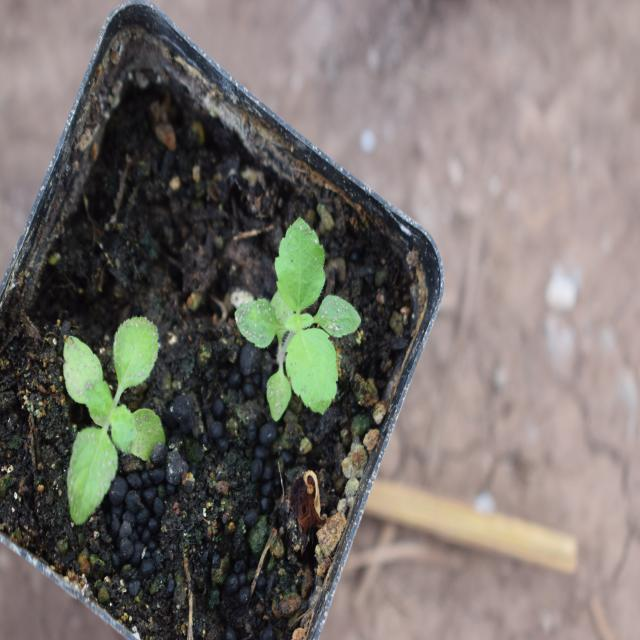billygoat_weed: (228, 210, 362, 422), (54, 301, 168, 548)
